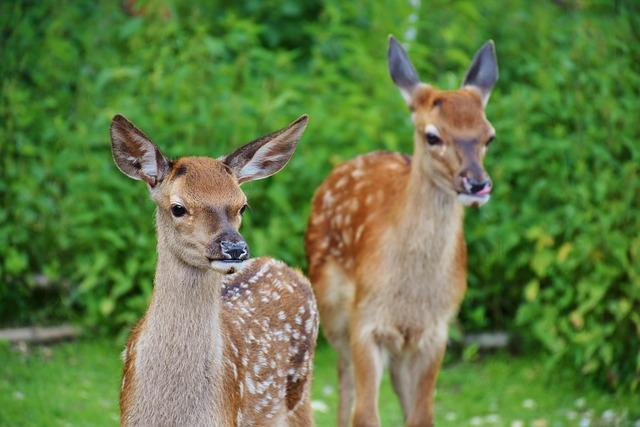Non_Gorille: (41, 15, 576, 411)
